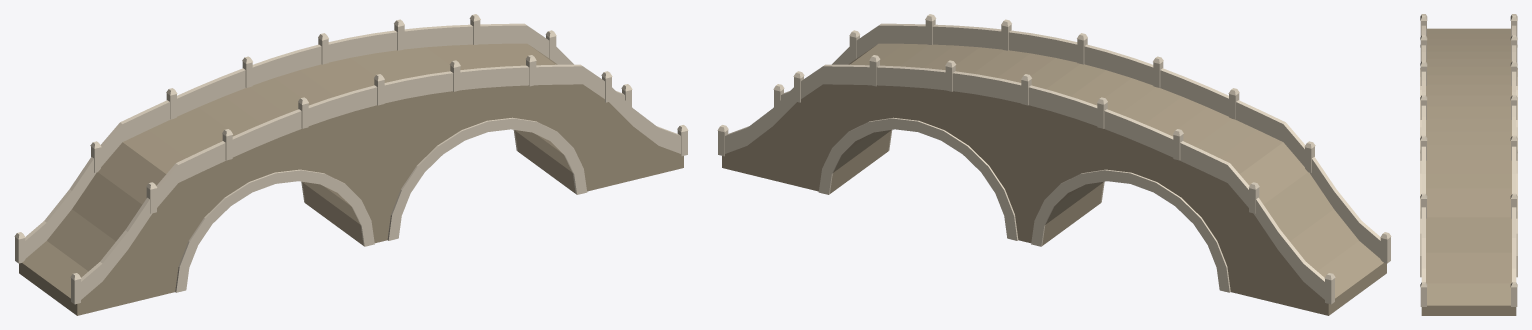
File: K11b_far.glb
3 renders of one model, left to right at view 1: azimuth 30°, elevation 25°; view 2: azimuth 150°, elevation 25°; view 3: azimuth 270°, elevation 25°, orthographic. The views are drawn at different scales.
Parts seen in each view (by area): view 1: K11b_far; view 2: K11b_far; view 3: K11b_far.
Boxes of the visible parts, <box> form: K11b_far: <box>14,14,688,315</box>; K11b_far: <box>717,14,1391,315</box>; K11b_far: <box>1420,14,1517,315</box>.
Size of the model in its own units: 30.36 by 7.83 by 5.18.
